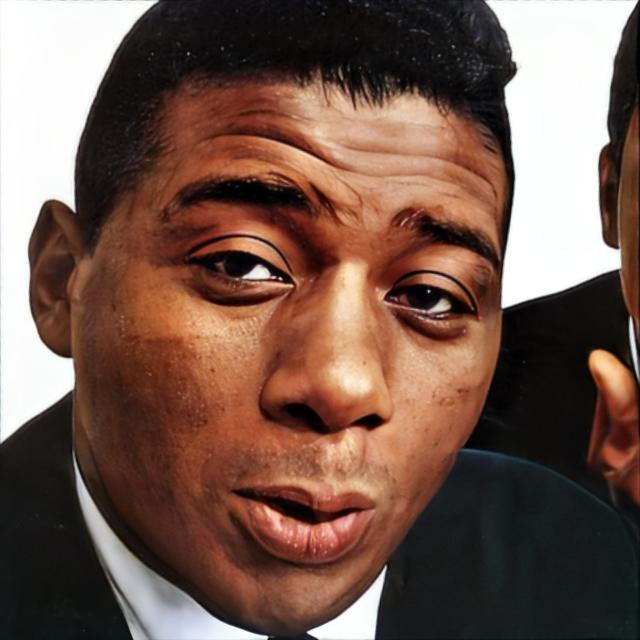surprise: (70, 64, 514, 636)
